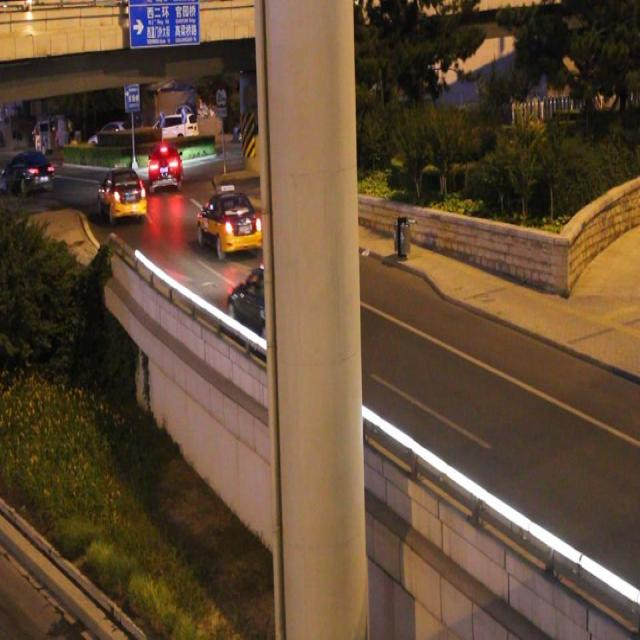car: (227, 260, 318, 356), (196, 184, 262, 256), (98, 164, 146, 224), (148, 144, 183, 191)
